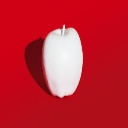apple: (41, 27, 84, 99)
